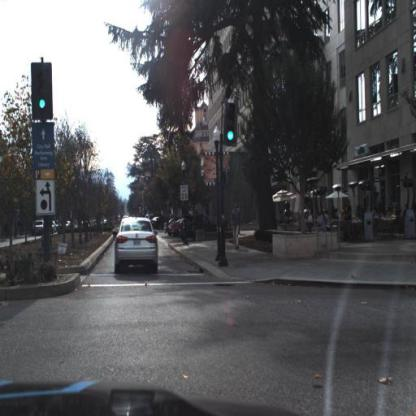car: (111, 213, 161, 281), (178, 215, 216, 240), (169, 215, 182, 239), (32, 219, 46, 236)
pedestrian: (231, 196, 241, 248), (321, 206, 334, 235), (346, 200, 353, 218)
trafficLight: (31, 61, 54, 121)
trafficLight-Green: (224, 100, 240, 145)
